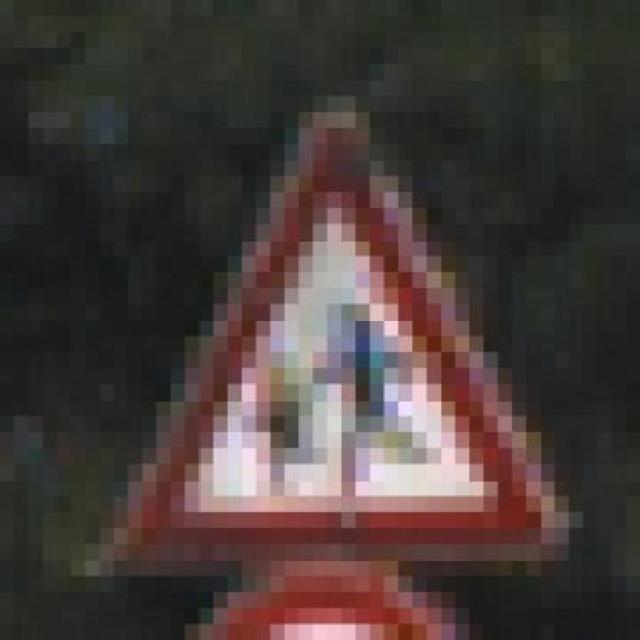Beware of children: (100, 96, 568, 576)
